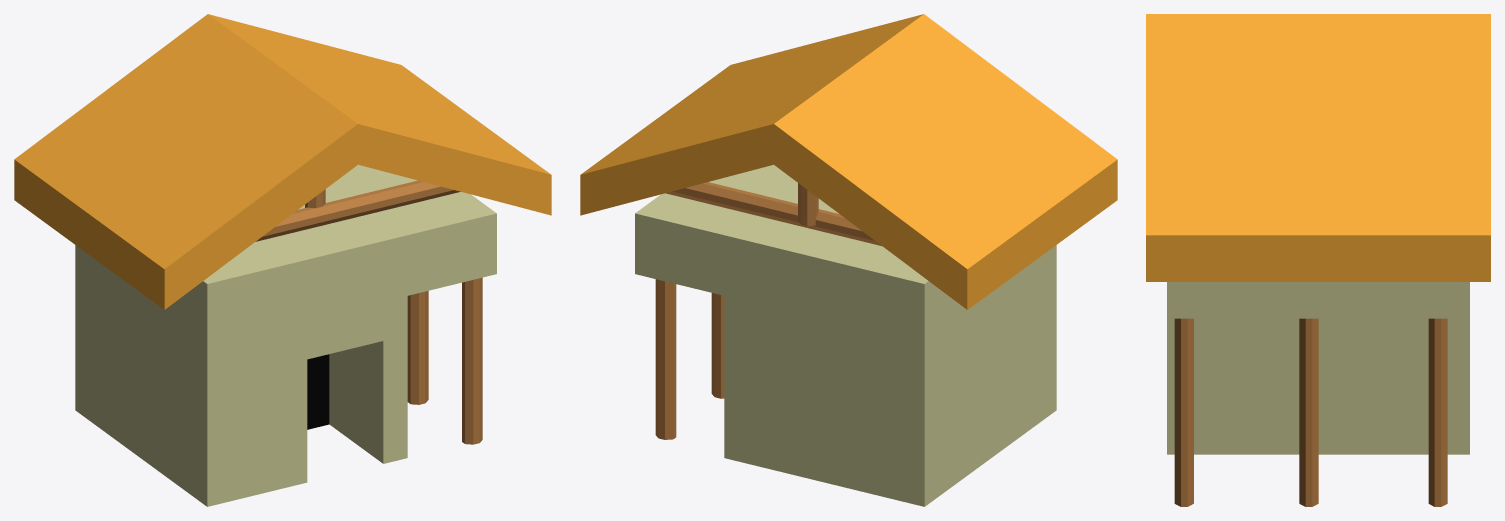
Rendered from Casa1.fbx.
3 views of the same model, side by side, from view 1: azimuth 30°, elevation 25°; view 2: azimuth 150°, elevation 25°; view 3: azimuth 270°, elevation 25° (orthographic). The views are drawn at different scales.
Parts seen in each view (by area): view 1: Cube.002, Cube, Madeira, Madeira.002, Madeira.003; view 2: Cube.002, Cube, Madeira.005, Madeira.004, Madeira.003, Madeira.006; view 3: Cube, Cube.002, Madeira.003, Madeira.002, Madeira.004.
Part boxes in pixels (x1,y1,x2,y2): Cube.002: (75, 164, 496, 506); Cube: (14, 14, 551, 309); Madeira: (255, 180, 460, 241); Madeira.002: (462, 277, 482, 444); Madeira.003: (407, 291, 428, 404); Cube.002: (635, 164, 1056, 506); Cube: (580, 14, 1117, 309); Madeira.005: (666, 182, 881, 245); Madeira.004: (655, 279, 676, 439); Madeira.003: (711, 293, 724, 398); Madeira.006: (798, 183, 818, 225); Cube: (1146, 14, 1490, 281); Cube.002: (1167, 282, 1469, 454); Madeira.003: (1299, 318, 1318, 506); Madeira.002: (1174, 318, 1193, 506); Madeira.004: (1428, 318, 1447, 506).
Size of the model in its own units: 1784 by 1589 by 1198.
